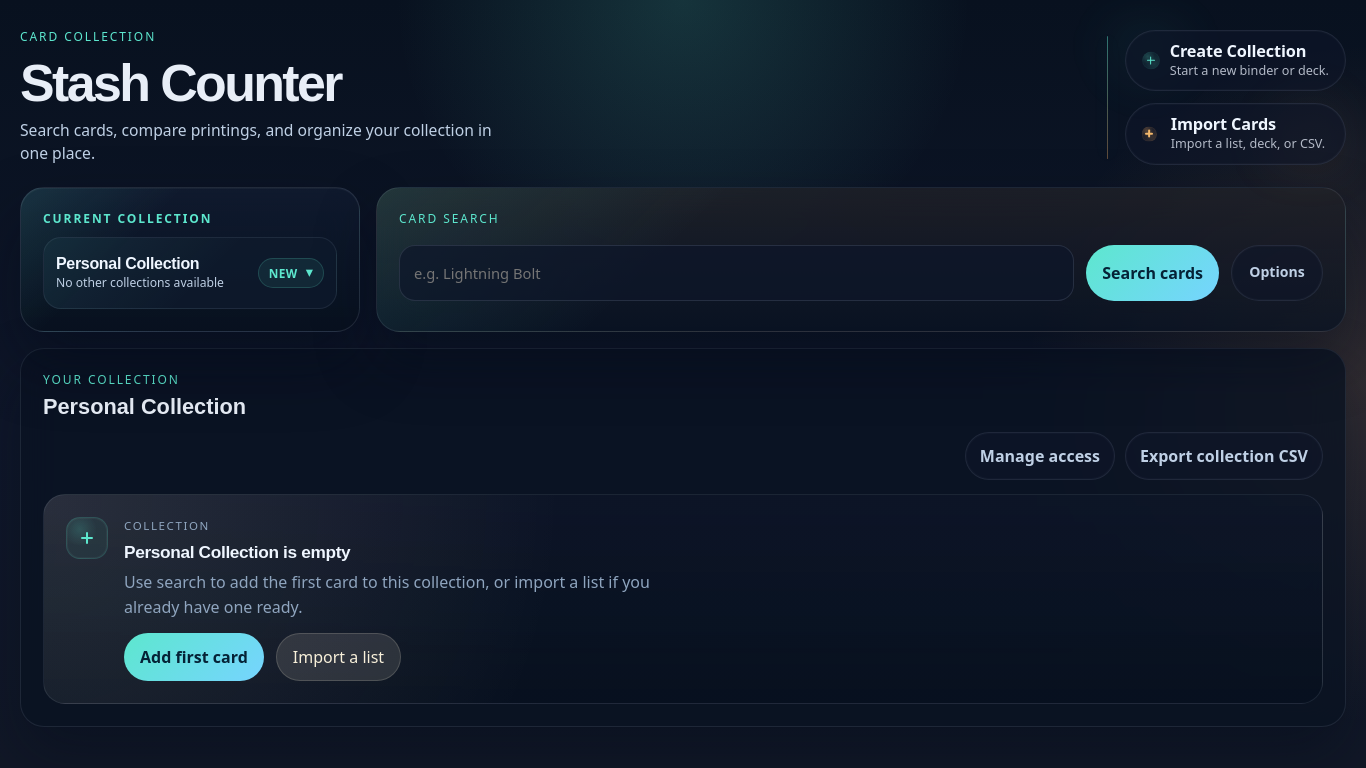
App › moves an open app to the sign-in state when the session expires
Step 1. Type "Bolt" into the dropdown named "Quick Add and Card Search" → (737, 273), box x1=399 y1=245 x2=1074 y2=301
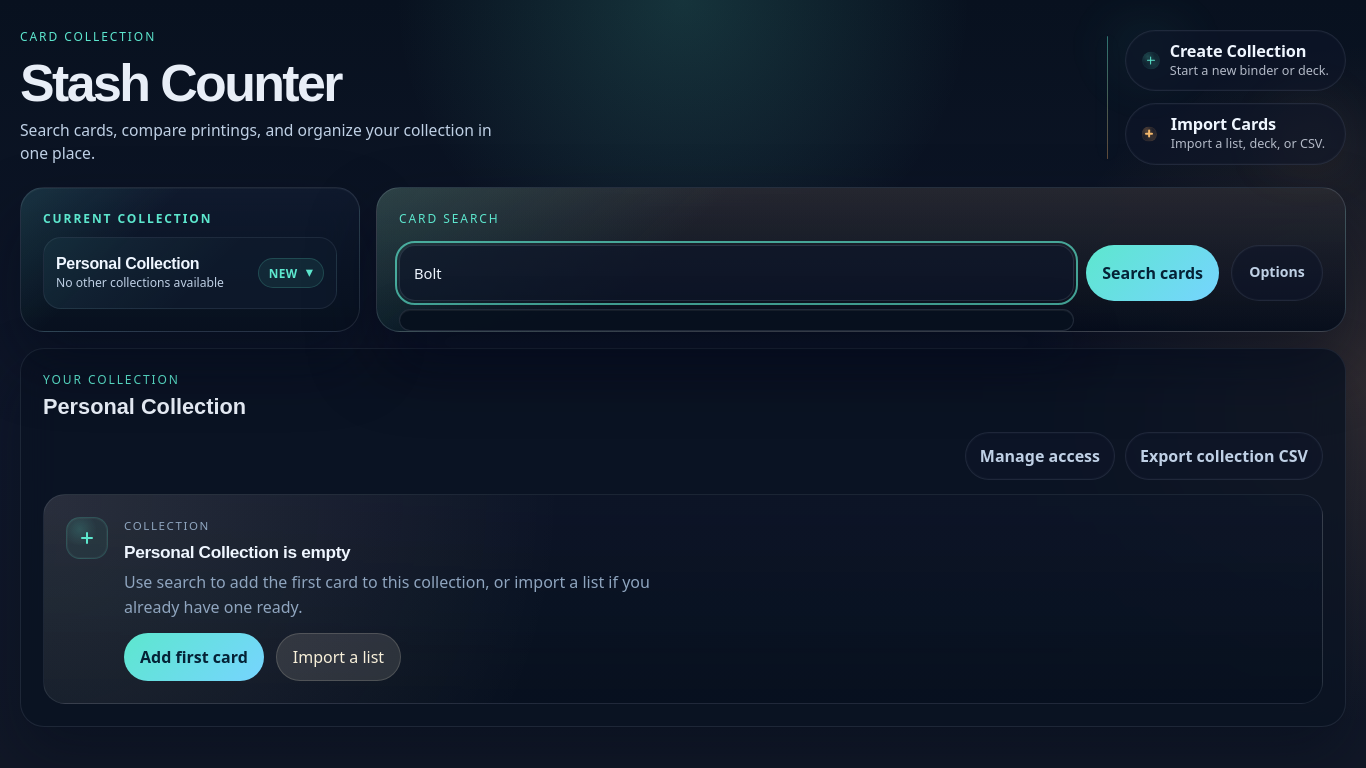
Step 2. Click the button "Search cards" → (1153, 273), box x1=1086 y1=245 x2=1219 y2=301
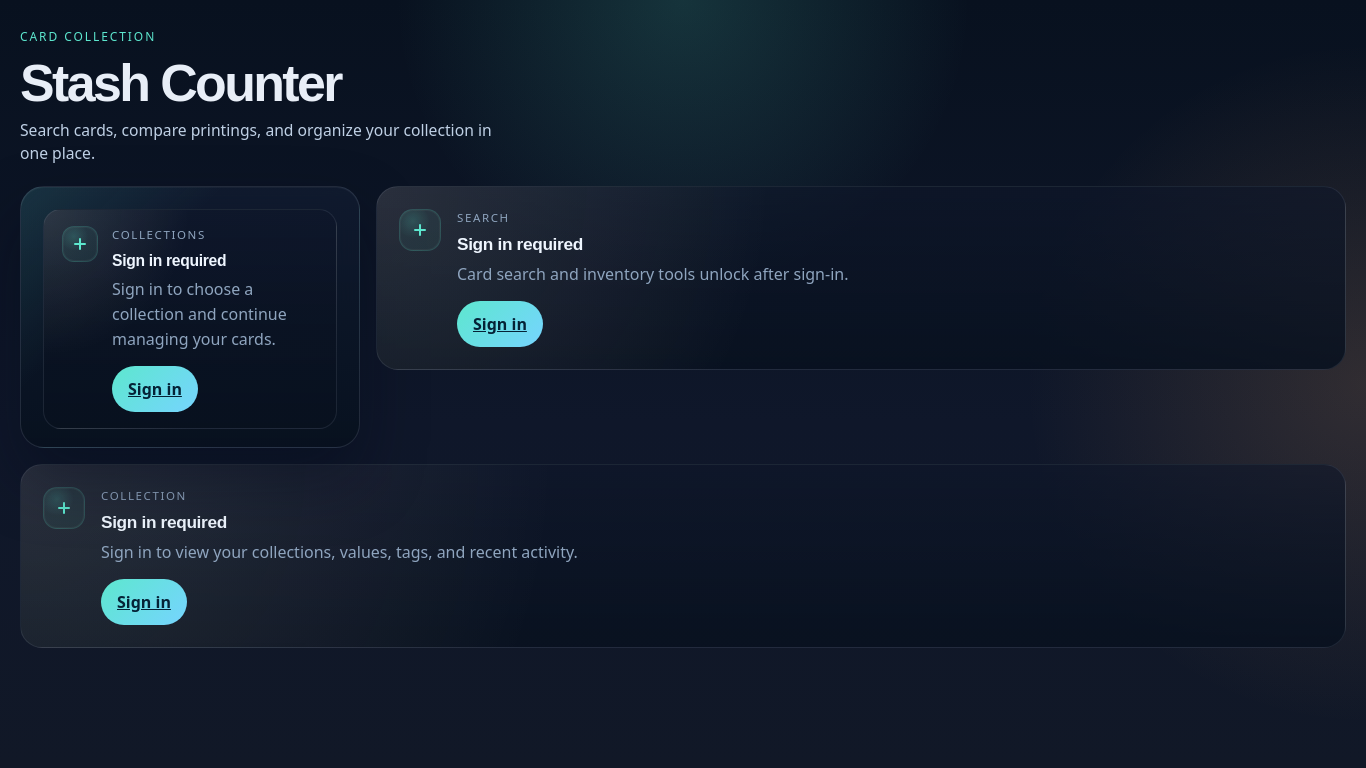
Expected: the dropdown labelled "Quick Add and Card Search" is not shown
Result: the text "Sign in required" is shown 3 times at x1=112 y1=252 x2=226 y2=269; x1=457 y1=235 x2=583 y2=254; x1=101 y1=512 x2=227 y2=532
